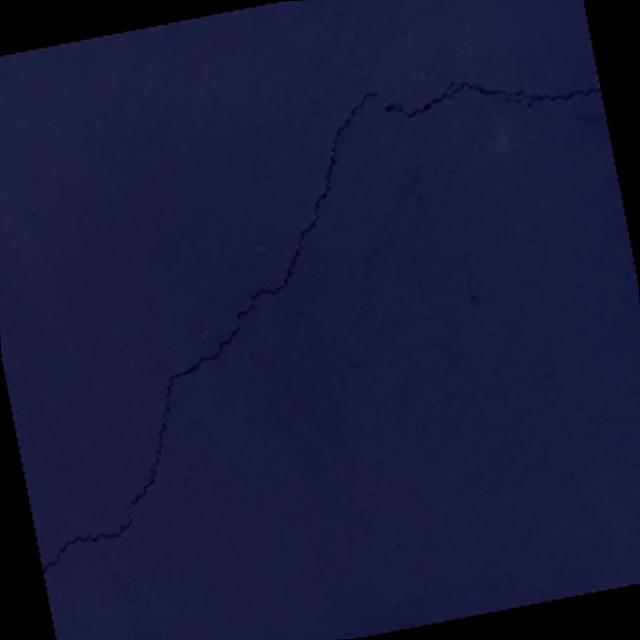crack: (0, 46, 640, 575)
